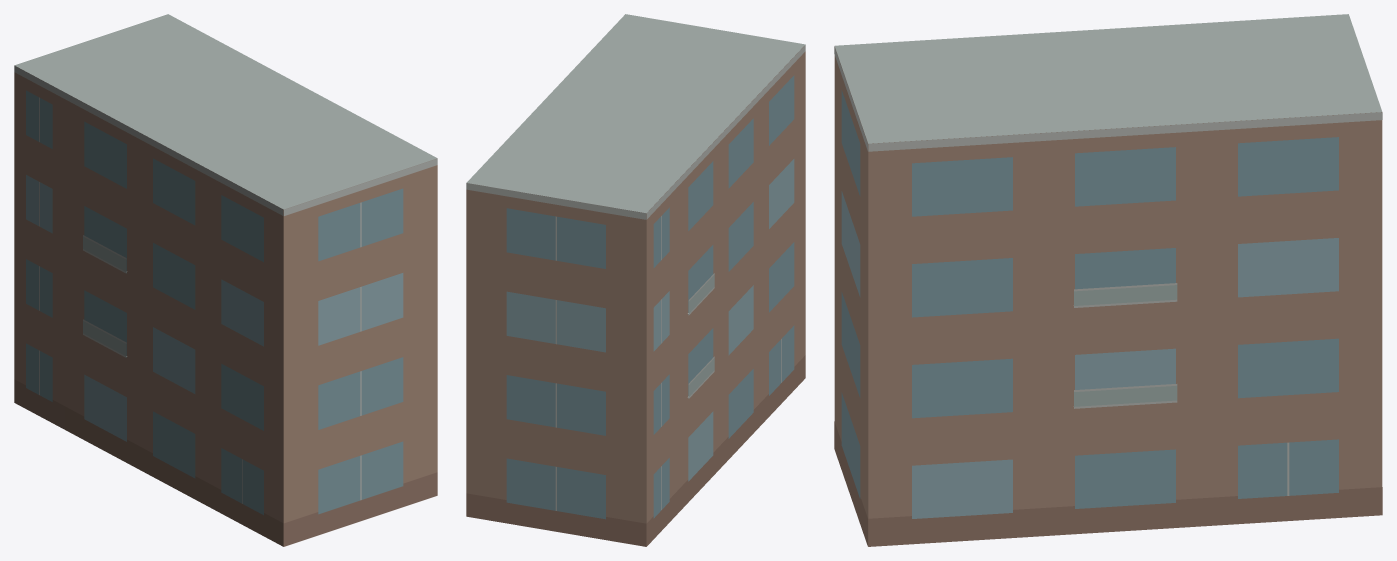
File: residential-c745585c-a6ae-4d44-ad5f-3656a40adcda.glb
3 renders of one model, left to right at view 1: azimuth 30°, elevation 25°; view 2: azimuth 150°, elevation 25°; view 3: azimuth 270°, elevation 25°, orthographic. The views are drawn at different scales.
Visible parts, largest first — view 1: residential-c745585c-a6ae-4d44-ad5f-3656a40adcda.tmp; view 2: residential-c745585c-a6ae-4d44-ad5f-3656a40adcda.tmp; view 3: residential-c745585c-a6ae-4d44-ad5f-3656a40adcda.tmp.
Boxes of the visible parts, x1,y1,x2,y2 form: residential-c745585c-a6ae-4d44-ad5f-3656a40adcda.tmp: (14, 14, 437, 546); residential-c745585c-a6ae-4d44-ad5f-3656a40adcda.tmp: (466, 14, 805, 546); residential-c745585c-a6ae-4d44-ad5f-3656a40adcda.tmp: (834, 14, 1382, 546).
Size of the model in its own units: 8.43 by 12.2 by 15.04.
